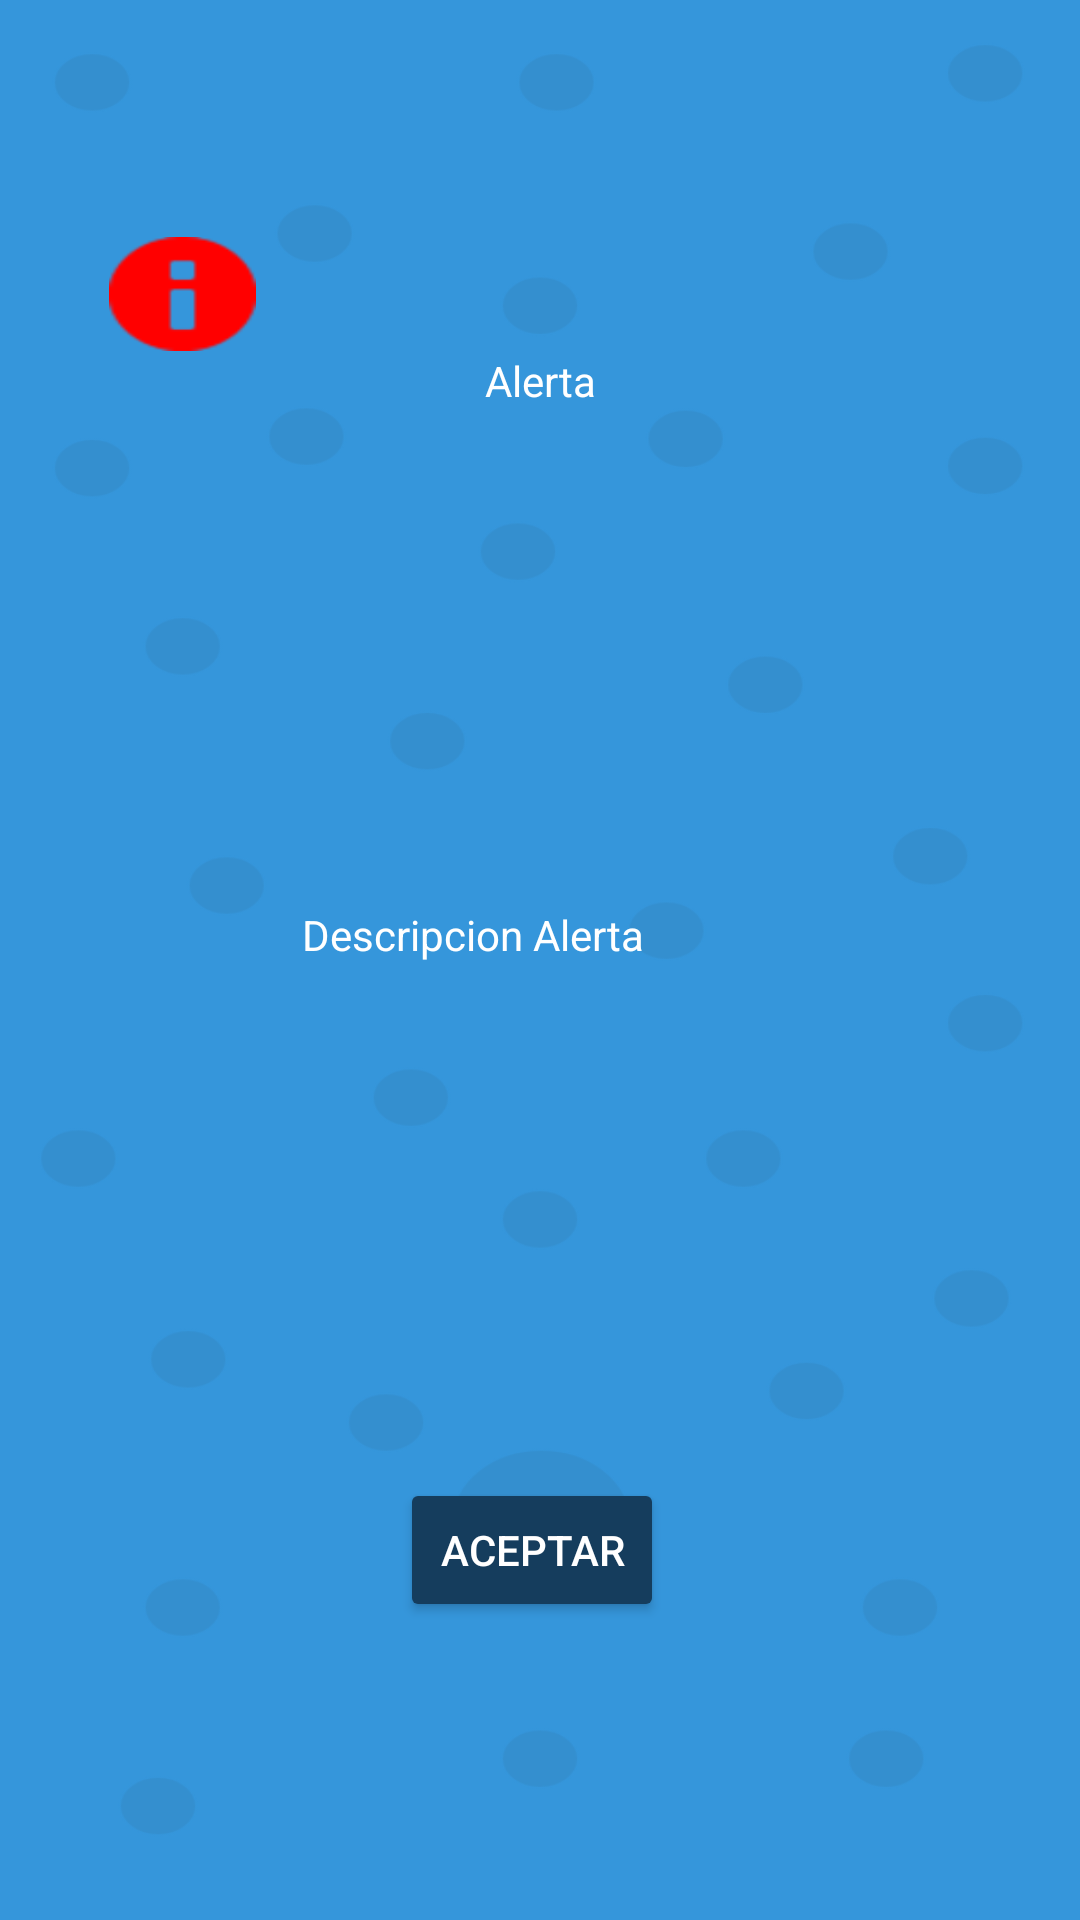

Screen size 1080×1920. Icon name, then its center in pixels as [x,y]:
info: [182,294]
